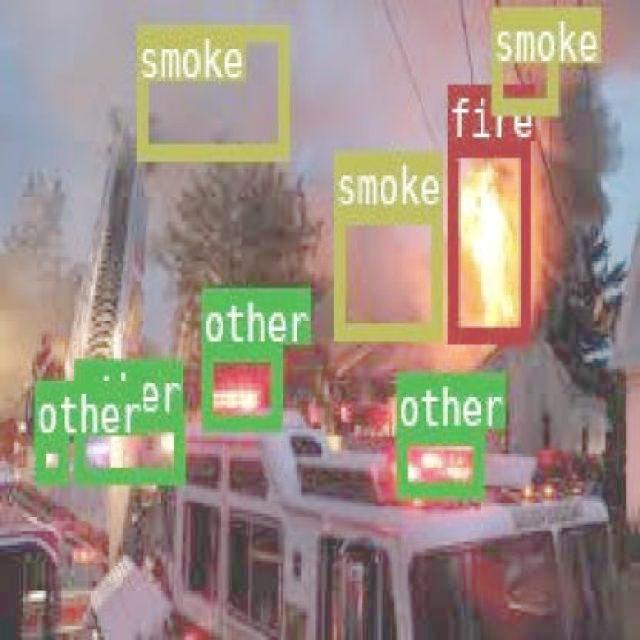fire: (446, 138, 528, 338)
smoke: (134, 21, 288, 156), (333, 204, 441, 336), (490, 7, 556, 110)
